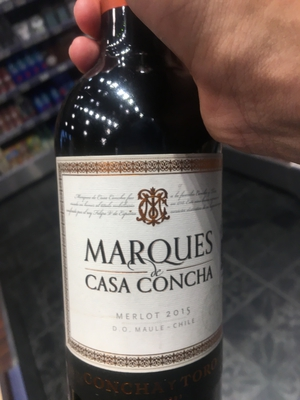marques de casa concha merlot: (52, 4, 243, 390)
